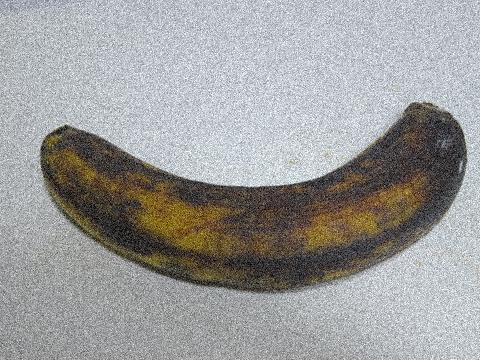overripe: (32, 82, 471, 310)
rotten: (374, 101, 479, 211)
